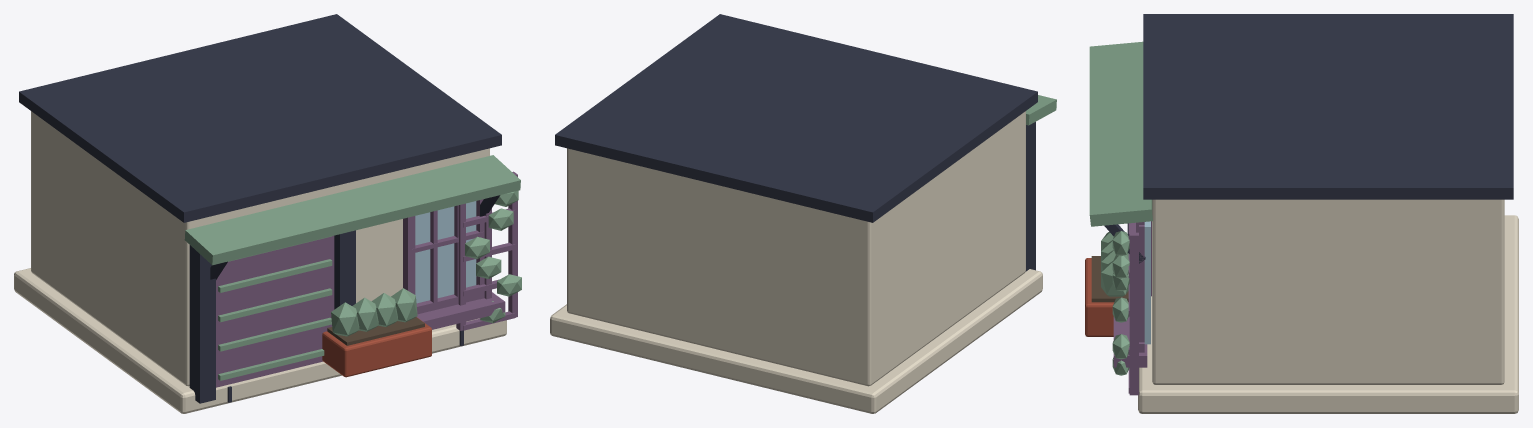
Rendered from base_workshop_gardens_1.glb.
The picture shows the model from 3 angles, left to right: view 1: azimuth 30°, elevation 25°; view 2: azimuth 150°, elevation 25°; view 3: azimuth 270°, elevation 25°; orthographic projection. The views are drawn at different scales.
Parts seen in each view (by area): view 1: base_workshop_gardens_1 ink, base_workshop_gardens_1 mist, base_workshop_gardens_1 pine, base_workshop_gardens_1 patina, base_workshop_gardens_1 clay, base_workshop_gardens_1 glass, base_workshop_gardens_1 leaf, base_workshop_gardens_1 soil; view 2: base_workshop_gardens_1 mist, base_workshop_gardens_1 ink, base_workshop_gardens_1 pine; view 3: base_workshop_gardens_1 mist, base_workshop_gardens_1 ink, base_workshop_gardens_1 pine, base_workshop_gardens_1 patina, base_workshop_gardens_1 clay, base_workshop_gardens_1 glass, base_workshop_gardens_1 soil.
Part boxes in pixels (x1,y1,x2,y2): base_workshop_gardens_1 ink: (19, 14, 501, 403); base_workshop_gardens_1 mist: (14, 111, 506, 413); base_workshop_gardens_1 pine: (184, 155, 521, 380); base_workshop_gardens_1 patina: (216, 171, 517, 387); base_workshop_gardens_1 clay: (322, 317, 431, 377); base_workshop_gardens_1 glass: (415, 201, 476, 303); base_workshop_gardens_1 leaf: (331, 293, 398, 336); base_workshop_gardens_1 soil: (327, 317, 424, 345); base_workshop_gardens_1 mist: (550, 111, 1042, 413); base_workshop_gardens_1 ink: (555, 14, 1037, 271); base_workshop_gardens_1 pine: (1026, 95, 1056, 125); base_workshop_gardens_1 mist: (1138, 199, 1518, 413); base_workshop_gardens_1 ink: (1104, 14, 1513, 263); base_workshop_gardens_1 pine: (1089, 41, 1152, 375); base_workshop_gardens_1 patina: (1113, 221, 1151, 395); base_workshop_gardens_1 clay: (1085, 258, 1113, 336); base_workshop_gardens_1 glass: (1144, 221, 1150, 344); base_workshop_gardens_1 soil: (1091, 256, 1128, 302).
Bounding box in the file's own units: 0.8301 × 0.48 × 0.8375.
